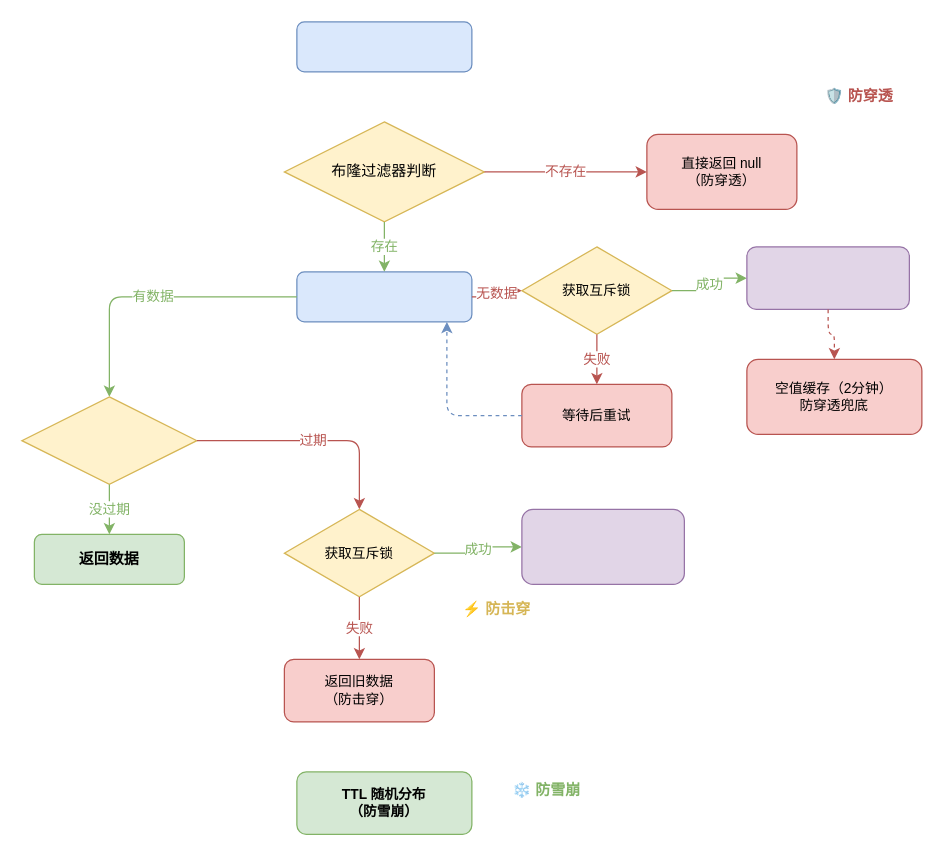
This 944x856 diagram has some shape labels left out. Here are the shapes that lost their labels. From the top down, the centre of each, then its label:
point 384,46: 请求到达
point 384,296: Redis 缓存查询
point 827,277: 查数据库重建缓存
point 109,440: 逻辑过期判断
point 602,546: 异步重建缓存 （后台线程）
